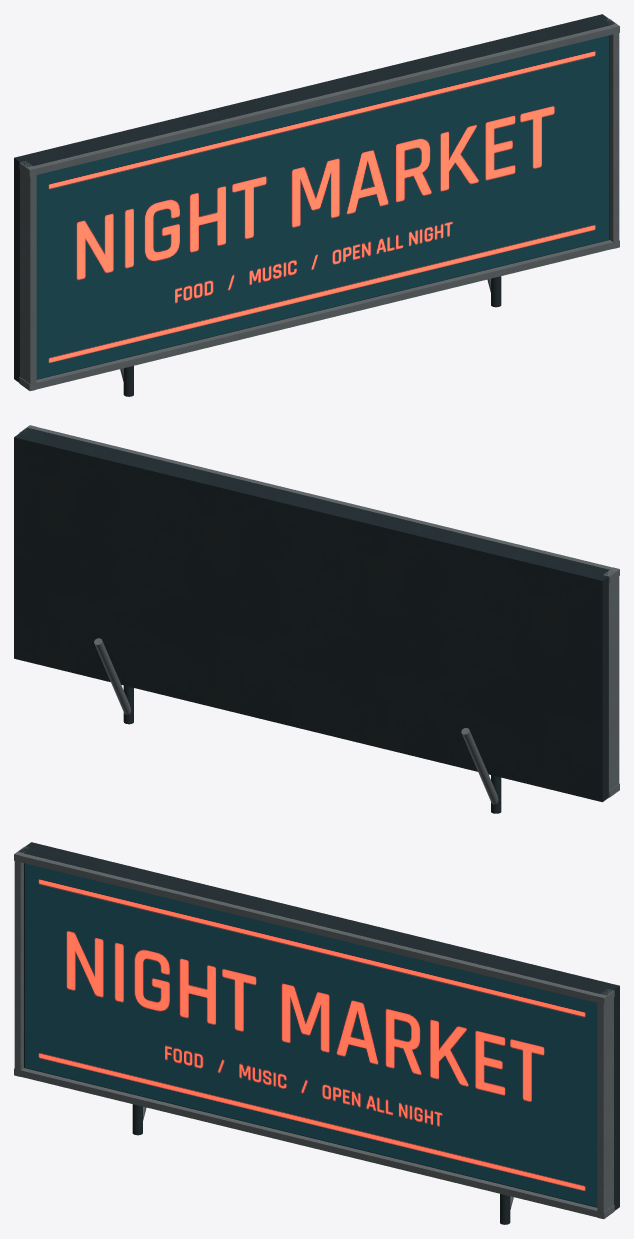
Rendered from NC_Sign_market_LOD1.fbx.
3 renders of one model, top to bottom at view 1: azimuth 30°, elevation 25°; view 2: azimuth 150°, elevation 25°; view 3: azimuth 330°, elevation 25°, orthographic.
Parts seen in each view (by area): view 1: NC_Sign_market_LOD1; view 2: NC_Sign_market_LOD1; view 3: NC_Sign_market_LOD1.
Boxes of the visible parts, x1,y1,x2,y2 form: NC_Sign_market_LOD1: (14, 14, 619, 396); NC_Sign_market_LOD1: (14, 425, 619, 813); NC_Sign_market_LOD1: (14, 842, 619, 1224).
Bounding box in the file's own units: 720 × 304 × 94.87.
